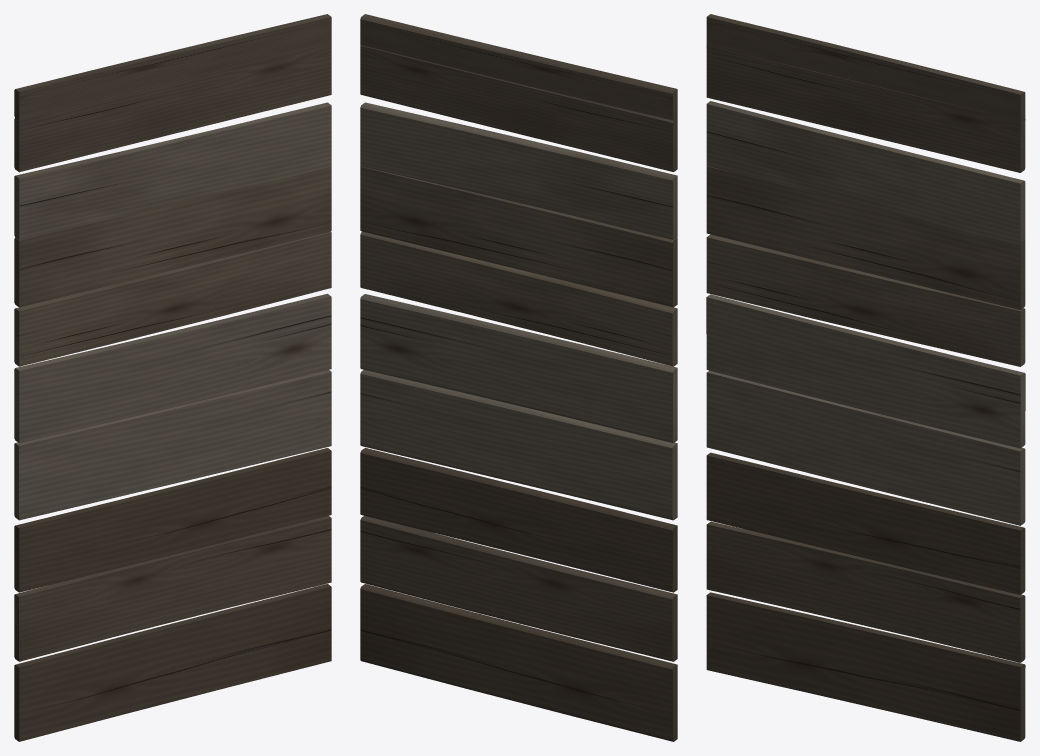
Rendered from S7U_Rev_Planks_1m.fbx.
3 renders of one model, left to right at view 1: azimuth 30°, elevation 25°; view 2: azimuth 150°, elevation 25°; view 3: azimuth 330°, elevation 25°, orthographic.
Visible parts, largest first — view 1: S7U_Rev_Planks_1m; view 2: S7U_Rev_Planks_1m; view 3: S7U_Rev_Planks_1m.
Boxes of the visible parts, box(x1,y1,x2,y2) form: S7U_Rev_Planks_1m: box(14, 14, 331, 741); S7U_Rev_Planks_1m: box(360, 14, 677, 741); S7U_Rev_Planks_1m: box(706, 14, 1025, 741).
Bounding box in the file's own units: 1.04 × 2.07 × 0.0372.
